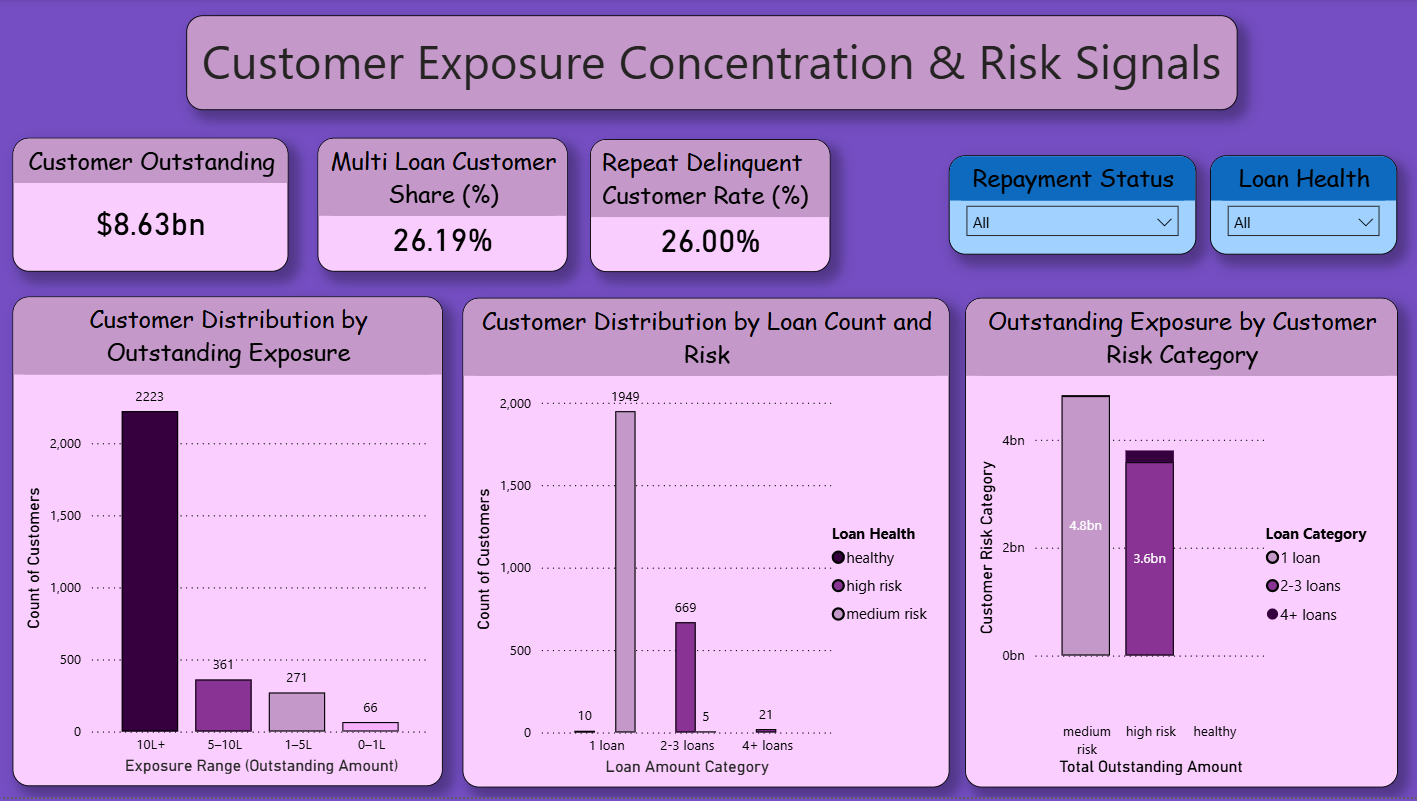

This screenshot's page, from the dashboard's own definition file:
{"tool":"powerbi","page":{"name":"Customer Exposure Concentration & Risk Signals","canvas":[1280,720],"ordinal":4},"visuals":[{"type":"textbox","box":[167.4,15.1,947.9,85.6],"z":0},{"type":"card","title":"Customer Outstanding","fields":{"Values":["All Measures.Customer Outstanding"]},"box":[11.1,125.2,249.1,121.1],"z":1000},{"type":"card","title":"Multi Loan Customer Share (%)","fields":{"Values":["All Measures.Multi_Loan_Cust_%"]},"box":[286.7,125.2,225.4,121.1],"z":2000},{"type":"card","title":"Repeat Delinquent Customer Rate (%)","fields":{"Values":["All Measures.Repeat_pending_cust_rate"]},"box":[531.6,126.6,217.1,119.7],"z":3000},{"type":"slicer","title":"Repayment Status","fields":{"Values":["bank_db loan_repayment_status.repayment_status"]},"box":[856,141,222.8,89.4],"z":4000},{"type":"slicer","title":"Loan Health","fields":{"Values":["bank_db customer_loan_summary_bucket_risk.customer_risk"]},"box":[1091.4,141,168.7,89.4],"z":5000},{"type":"clusteredColumnChart","title":"Customer Distribution by Outstanding Exposure","fields":{"Category":["bank_db loan_repayment_status.Outstanding Bucket"],"Y":["Count(bank_db loan_repayment_status.customer_id)"]},"box":[11.3,268.1,387.7,441.9],"z":6000},{"type":"clusteredColumnChart","title":"Customer Distribution by Loan Count and Risk","fields":{"Y":["CountNonNull(bank_db customer_loan_summary_bucket.customer_id)"],"Category":["bank_db customer_loan_summary_bucket.loan_count_bucket"],"Series":["bank_db customer_loan_summary_bucket_risk.customer_risk"]},"box":[416.7,269.9,439.1,441.6],"z":7000},{"type":"columnChart","title":"Outstanding Exposure by Customer Risk Category","fields":{"Category":["bank_db customer_loan_summary_bucket_risk.customer_risk"],"Y":["Sum(bank_db customer_loan_summary_bucket_risk.total_outstanding)"],"Series":["bank_db customer_loan_summary_bucket_risk.loan_count_bucket"]},"box":[869.9,269.4,390.2,441.9],"z":8000}]}

Visuals, with their boxes in screenshot pixels (x1, y1, x2, y2), scaled from the page's 1280x720 canvas onto the 1417x801 screenshot:
textbox: x1=185, y1=17, x2=1235, y2=112
"Customer Outstanding" card: x1=12, y1=139, x2=288, y2=274
"Multi Loan Customer Share (%)" card: x1=317, y1=139, x2=567, y2=274
"Repeat Delinquent Customer Rate (%)" card: x1=588, y1=141, x2=829, y2=274
"Repayment Status" slicer: x1=948, y1=157, x2=1194, y2=256
"Loan Health" slicer: x1=1208, y1=157, x2=1395, y2=256
"Customer Distribution by Outstanding Exposure" clusteredColumnChart: x1=13, y1=298, x2=442, y2=790
"Customer Distribution by Loan Count and Risk" clusteredColumnChart: x1=461, y1=300, x2=947, y2=792
"Outstanding Exposure by Customer Risk Category" columnChart: x1=963, y1=300, x2=1395, y2=791
